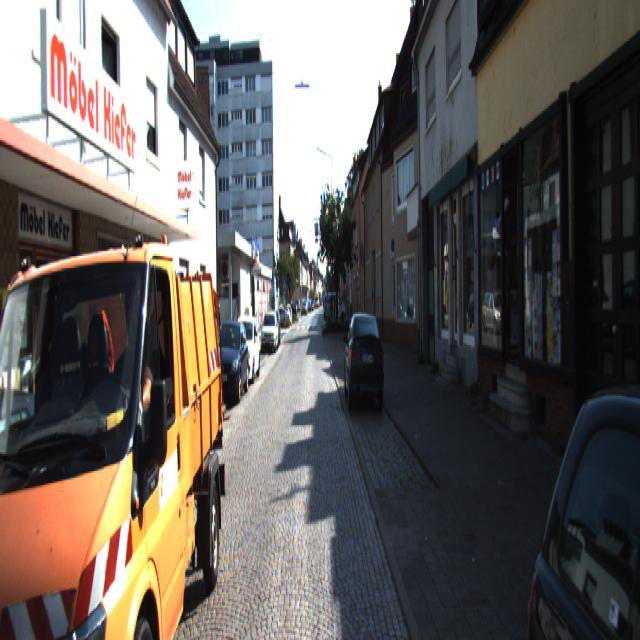Car: (0, 167, 231, 639), (519, 355, 639, 638), (0, 369, 78, 638), (136, 346, 214, 482), (343, 310, 386, 412), (210, 320, 250, 409), (228, 315, 262, 385), (260, 311, 278, 353)
